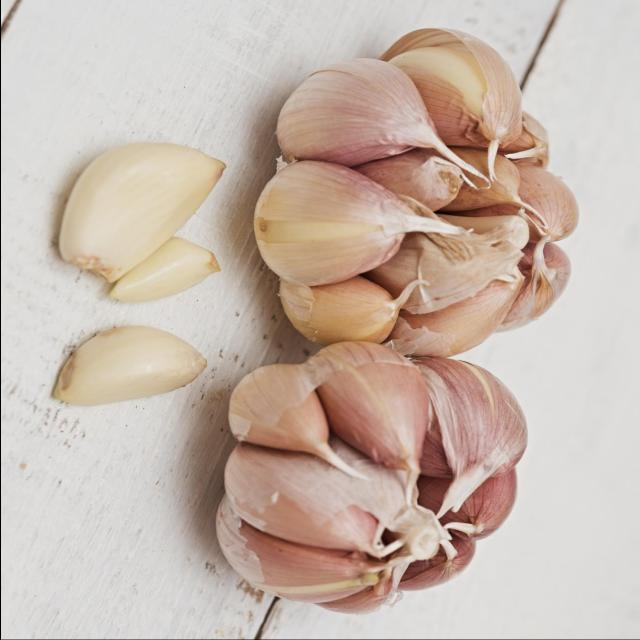garlic: (249, 23, 583, 363), (208, 355, 527, 619), (53, 139, 229, 285), (50, 324, 210, 410), (101, 239, 222, 311)
